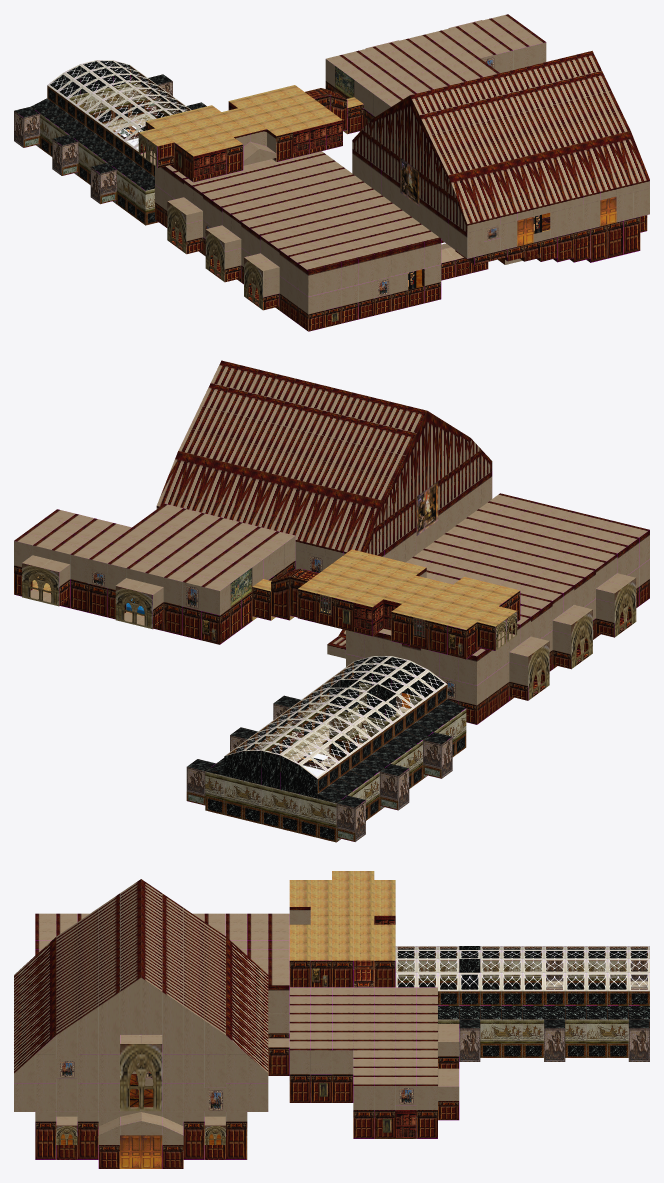
Rendered from room_commune.obj.
The picture shows the model from 3 angles, top to bottom: view 1: azimuth 30°, elevation 25°; view 2: azimuth 150°, elevation 25°; view 3: azimuth 270°, elevation 25°; orthographic projection. The views are drawn at different scales.
Visible parts, largest first — view 1: Texture_192_mesh_.000, Texture_222_mesh_.001, Texture_258_mesh_.000, Texture_182_mesh__Texture_182_mesh_.000, Texture_194_mesh__Texture_194_mesh_.000, Texture_219_mesh_.000, Texture_212_mesh_.000; view 2: Texture_192_mesh_.000, Texture_258_mesh_.000, Texture_222_mesh_.001, Texture_194_mesh__Texture_194_mesh_.000, Texture_182_mesh__Texture_182_mesh_.000; view 3: Texture_192_mesh_.000, Texture_258_mesh_.000, Texture_194_mesh__Texture_194_mesh_.000, Texture_182_mesh__Texture_182_mesh_.000, Texture_212_mesh_.000, Texture_222_mesh_.001, Texture_219_mesh_.000.
Boxes of the visible parts, left/top/right/bottom form: Texture_192_mesh_.000: left=352, top=50, right=649, bottom=258; Texture_222_mesh_.001: left=155, top=151, right=441, bottom=331; Texture_258_mesh_.000: left=14, top=60, right=206, bottom=225; Texture_182_mesh__Texture_182_mesh_.000: left=138, top=85, right=347, bottom=182; Texture_194_mesh__Texture_194_mesh_.000: left=325, top=14, right=546, bottom=134; Texture_219_mesh_.000: left=441, top=213, right=647, bottom=280; Texture_212_mesh_.000: left=455, top=215, right=647, bottom=264; Texture_192_mesh_.000: left=156, top=360, right=492, bottom=572; Texture_258_mesh_.000: left=186, top=656, right=466, bottom=842; Texture_222_mesh_.001: left=327, top=493, right=649, bottom=724; Texture_194_mesh__Texture_194_mesh_.000: left=14, top=503, right=295, bottom=644; Texture_182_mesh__Texture_182_mesh_.000: left=271, top=549, right=520, bottom=659; Texture_192_mesh_.000: left=14, top=879, right=268, bottom=1111; Texture_258_mesh_.000: left=395, top=946, right=649, bottom=1061; Texture_194_mesh__Texture_194_mesh_.000: left=268, top=987, right=459, bottom=1138; Texture_182_mesh__Texture_182_mesh_.000: left=289, top=871, right=395, bottom=987; Texture_212_mesh_.000: left=35, top=1060, right=247, bottom=1144; Texture_222_mesh_.001: left=35, top=913, right=289, bottom=1038; Texture_219_mesh_.000: left=35, top=1064, right=247, bottom=1168.
Bounding box in the file's own units: 24.58 × 10.75 × 30.72.
